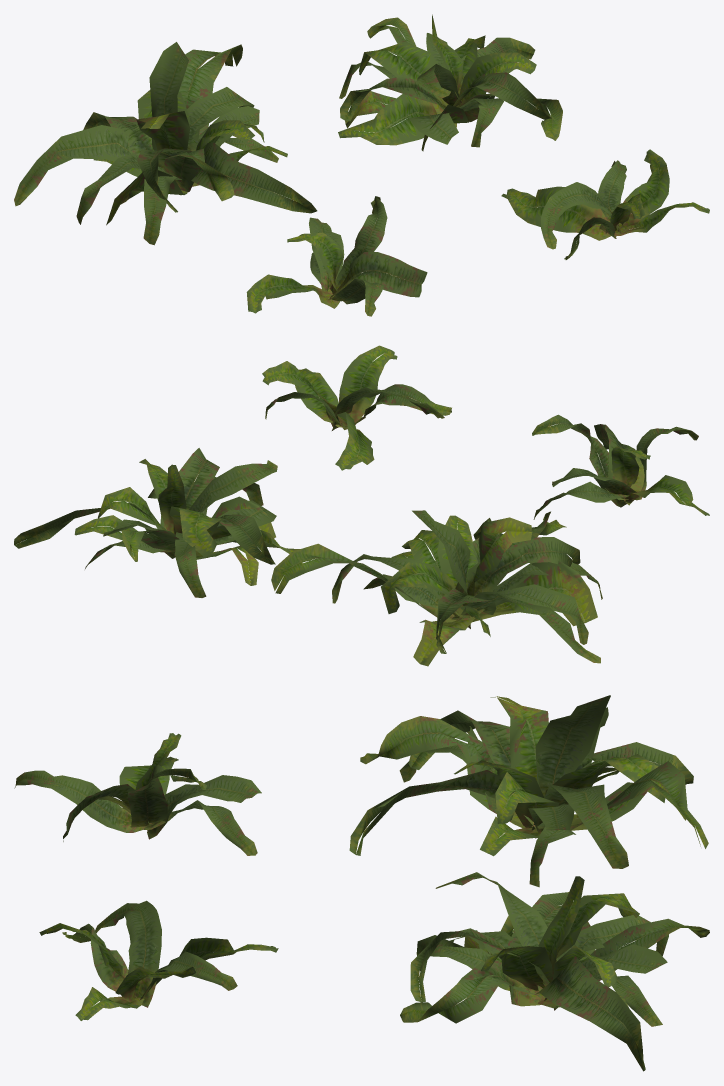
File: fern_02_lod.glb
3 renders of one model, top to bottom at view 1: azimuth 30°, elevation 25°; view 2: azimuth 150°, elevation 25°; view 3: azimuth 270°, elevation 25°, orthographic. The views are drawn at different scales.
Parts seen in each view (by area): view 1: fern_02_b, fern_02_c, fern_02_d, fern_02_a; view 2: fern_02_b, fern_02_c, fern_02_d, fern_02_a; view 3: fern_02_b, fern_02_c, fern_02_a, fern_02_d.
Part boxes in pixels (x1,y1,x2,y2): fern_02_b: (14, 42, 317, 245); fern_02_c: (338, 14, 562, 151); fern_02_d: (501, 149, 709, 259); fern_02_a: (246, 196, 427, 316); fern_02_b: (271, 510, 602, 666); fern_02_c: (14, 448, 310, 597); fern_02_d: (262, 345, 451, 470); fern_02_a: (532, 414, 709, 519); fern_02_b: (349, 695, 708, 887); fern_02_c: (400, 872, 709, 1071); fern_02_a: (14, 733, 261, 855); fern_02_d: (39, 900, 278, 1020).
Size of the model in its own units: 1.97 by 0.434 by 1.72.
Materials: 1 (1 with a texture image).
